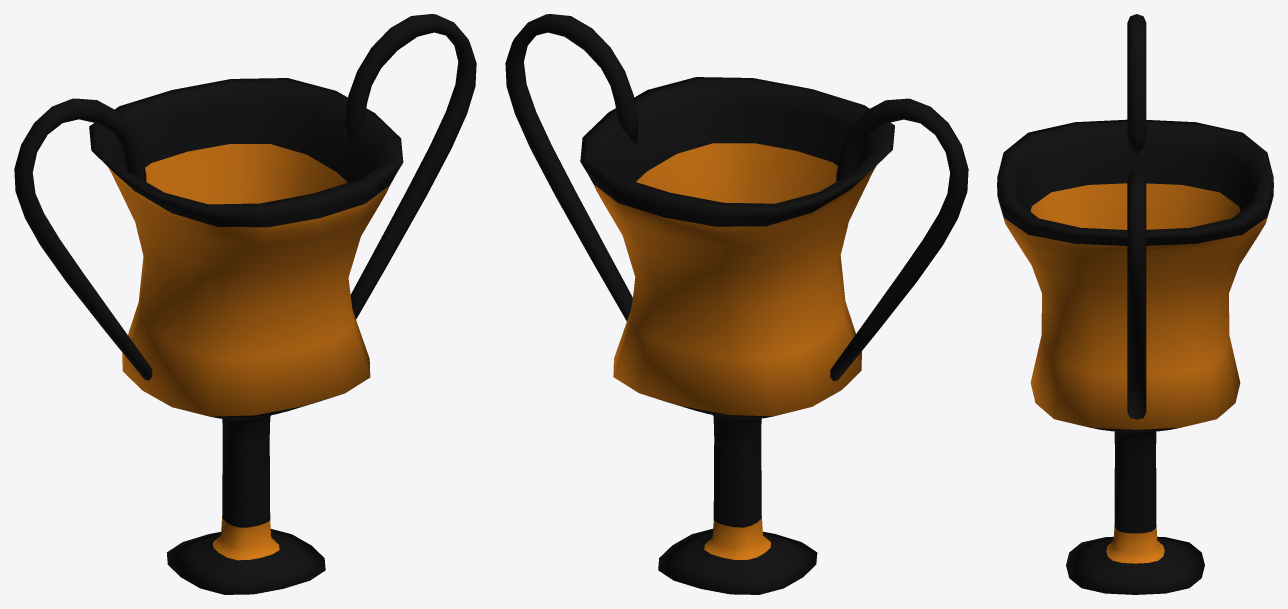
File: Vaso2.fbx
3 views of the same model, side by side, from view 1: azimuth 30°, elevation 25°; view 2: azimuth 150°, elevation 25°; view 3: azimuth 270°, elevation 25° (orthographic). The views are drawn at different scales.
Parts seen in each view (by area): view 1: Cube.025, Cube.029; view 2: Cube.025, Cube.029; view 3: Cube.025, Cube.029.
Boxes of the visible parts, bbox=[...] form: Cube.025: bbox=[89, 78, 403, 594]; Cube.029: bbox=[14, 14, 476, 380]; Cube.025: bbox=[580, 77, 894, 594]; Cube.029: bbox=[505, 14, 968, 381]; Cube.025: bbox=[997, 119, 1273, 594]; Cube.029: bbox=[1127, 14, 1146, 419].
Size of the model in its own units: 26.26 by 27.53 by 14.74.
